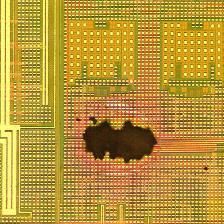PARTICLE: (76, 116, 211, 173)
